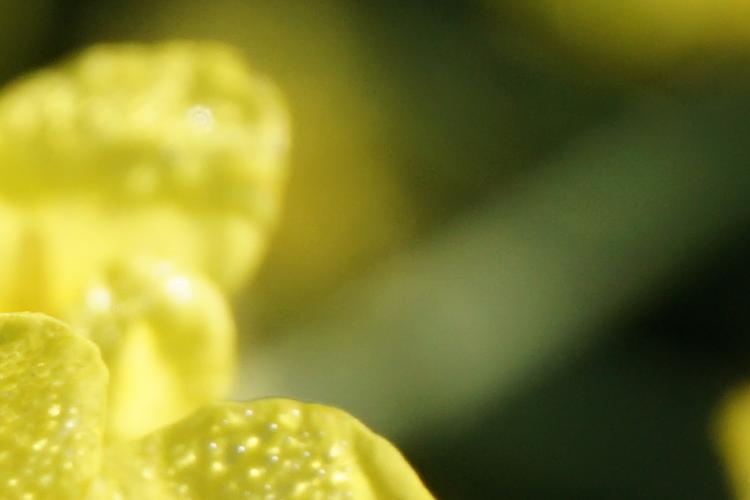yellow: (14, 53, 438, 500)
